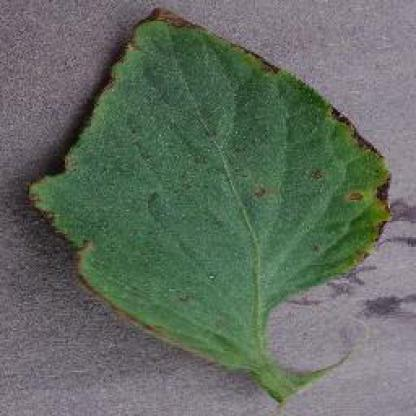bad leaf: (136, 5, 282, 85), (330, 103, 393, 268), (72, 248, 160, 345)
